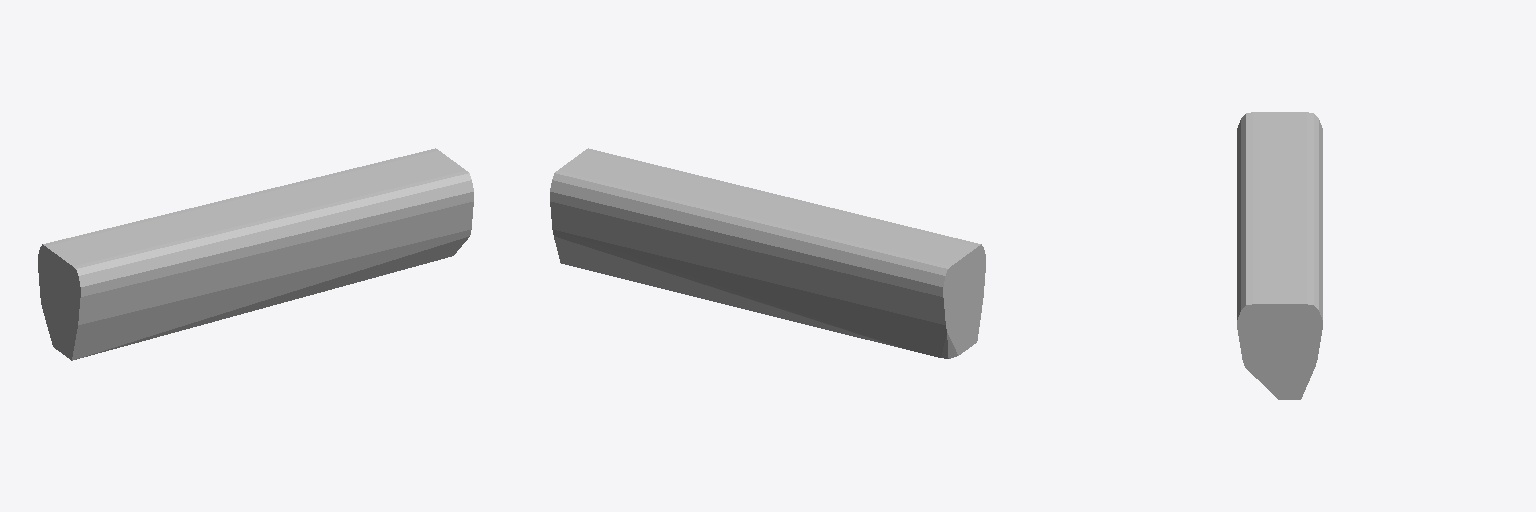
The model's file is Window_Slider_48x36_collision_1.obj.
3 views of the same model, side by side, from view 1: azimuth 30°, elevation 25°; view 2: azimuth 150°, elevation 25°; view 3: azimuth 270°, elevation 25° (orthographic).
Bounding box in the file's own units: 0.5048 × 0.1166 × 0.0947.